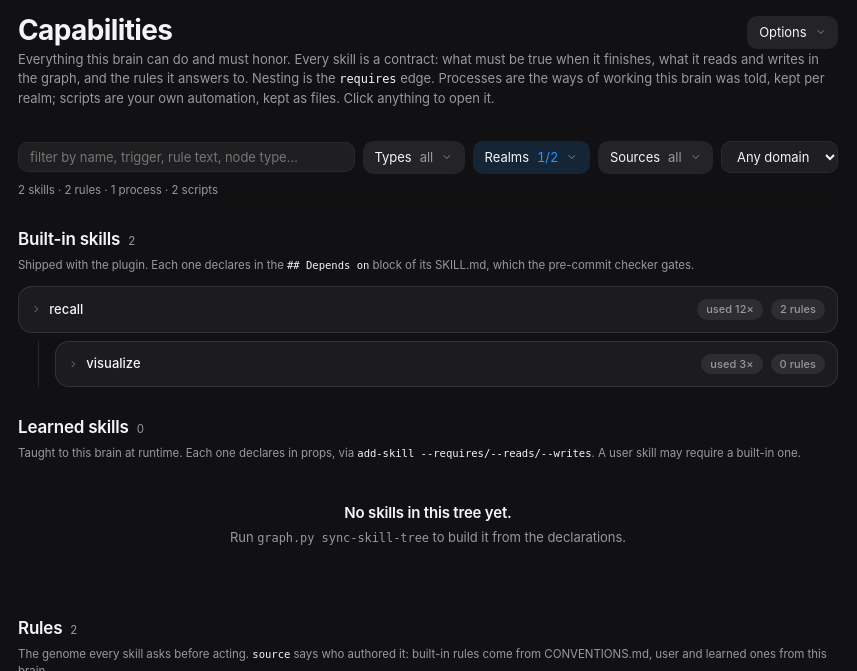
Test: Capabilities › separates the rules a skill actually pulled from the always-on ones
This screenshot has width=857, height=671.
What coordinates should you click on to do the following:
click the button "recall used 12× 2 rules"
I would click on:
 (66, 309)
Its box is x1=31 y1=287 x2=825 y2=332.
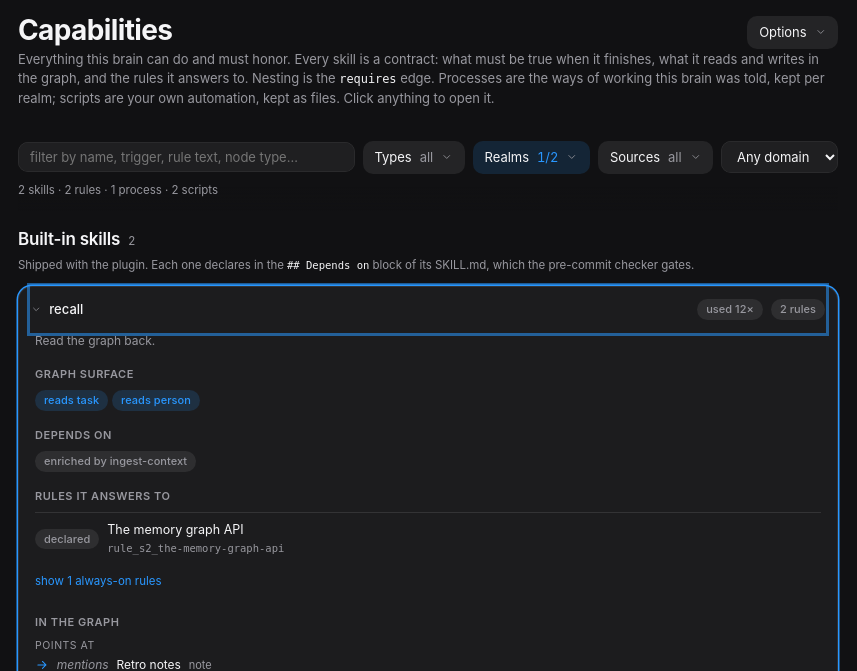
Expected: the text "always on" is not shown
Now the text "declared" is shown, box x1=35 y1=529 x2=99 y2=549
What coordinates should you click on to do the following:
click the button "show 1 always-on rules"
I would click on:
 (98, 581)
Its box is x1=35 y1=565 x2=162 y2=598.
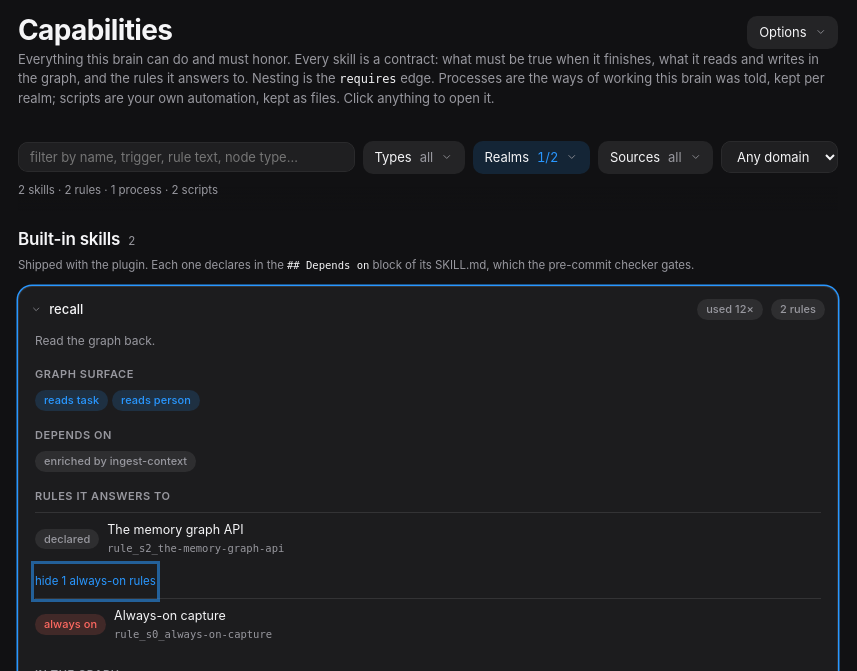
Now the text "always on" is shown, box x1=35 y1=614 x2=106 y2=635
